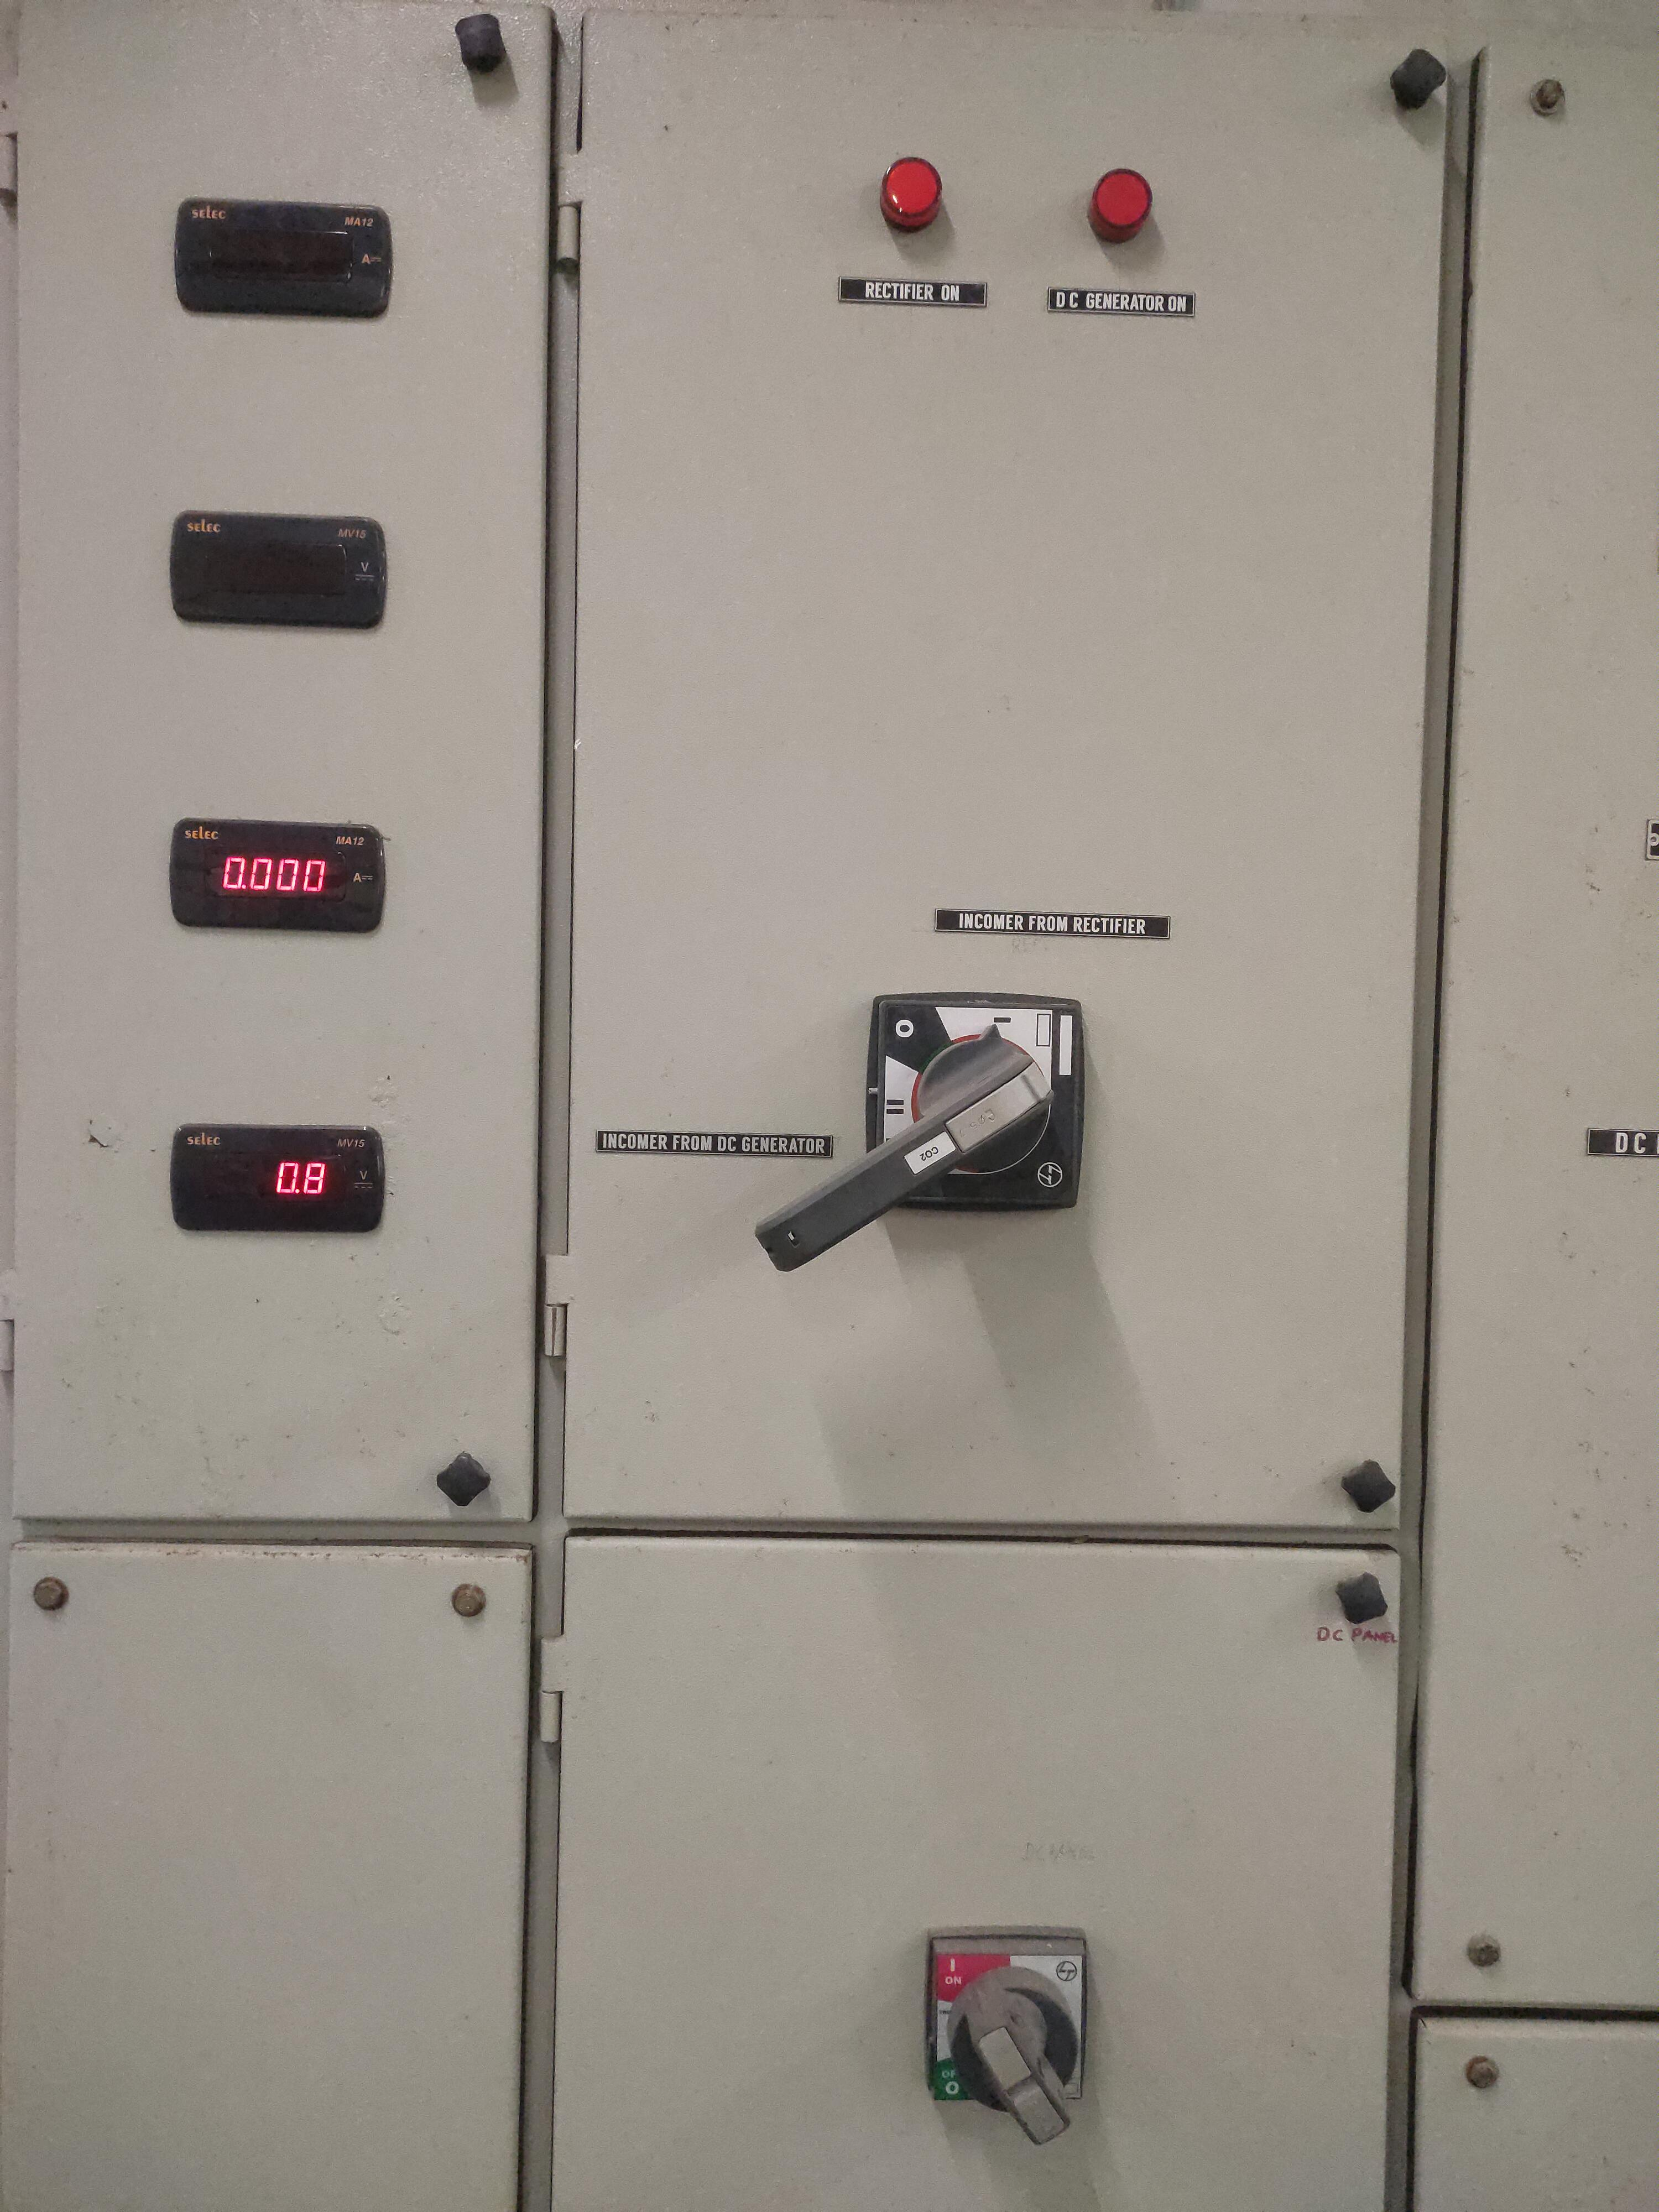Knob 1: (728, 939, 1169, 1313)
Knob 2: (878, 1881, 1112, 2172)
Light Indications: (789, 127, 1244, 361)
